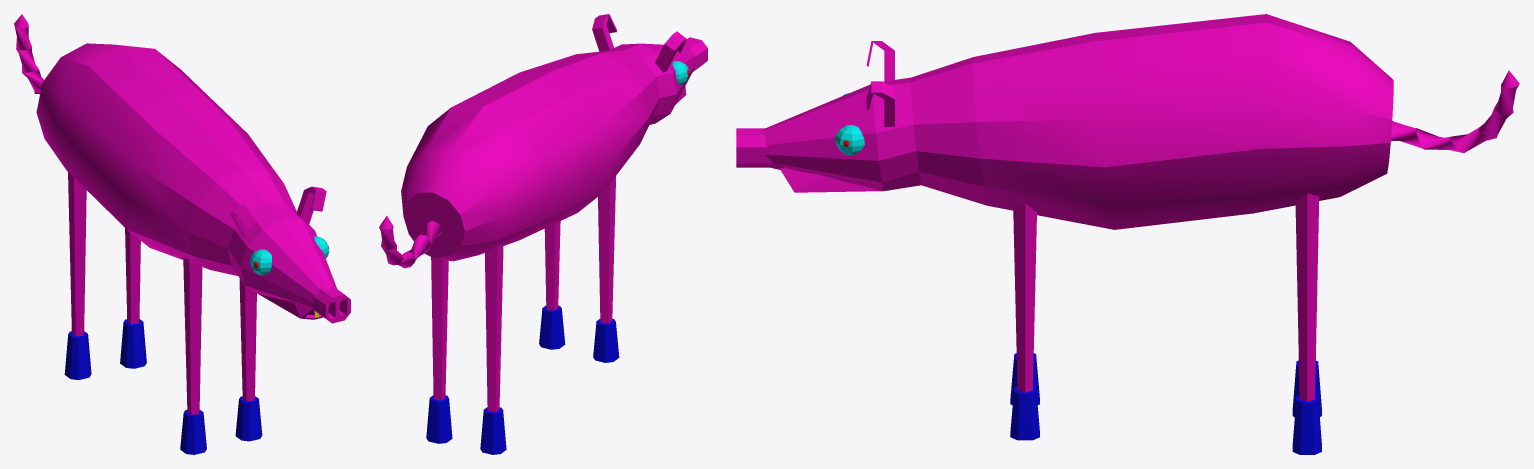
File: pig.fbx
The picture shows the model from 3 angles, left to right: view 1: azimuth 30°, elevation 25°; view 2: azimuth 150°, elevation 25°; view 3: azimuth 270°, elevation 25°; orthographic projection. The views are drawn at different scales.
Visible parts, largest first — view 1: polySurface1, polySurface17, polySurface16, sweep2, polySurface5; view 2: polySurface1, polySurface17, polySurface16, sweep2; view 3: polySurface1, polySurface17, polySurface16, sweep2.
Boxes of the visible parts, <box> form: polySurface1: <box>36,43,350,323</box>; polySurface17: <box>68,172,256,414</box>; polySurface16: <box>64,319,262,454</box>; sweep2: <box>14,14,43,94</box>; polySurface5: <box>250,236,329,275</box>; polySurface1: <box>401,14,707,261</box>; polySurface17: <box>431,176,615,412</box>; polySurface16: <box>426,305,619,454</box>; sweep2: <box>379,216,441,268</box>; polySurface1: <box>736,14,1393,229</box>; polySurface17: <box>1013,193,1319,401</box>; polySurface16: <box>1010,353,1321,454</box>; sweep2: <box>1391,70,1519,153</box>.
Size of the model in its own units: 11.93 by 28.3 by 49.14.
